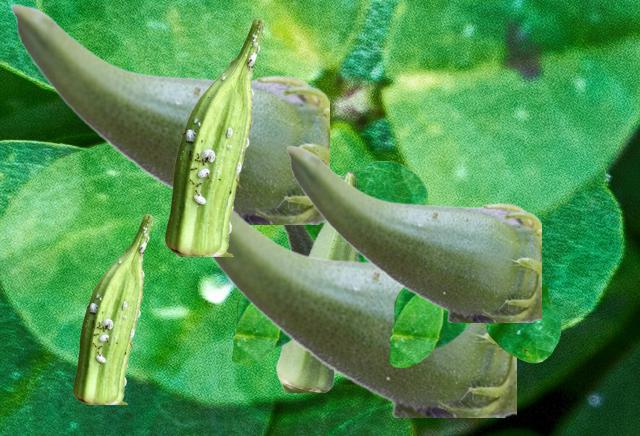okra: (10, 3, 328, 223), (209, 209, 515, 416), (285, 145, 540, 321), (165, 18, 264, 255), (276, 171, 358, 391), (73, 214, 152, 403), (280, 224, 312, 254)
